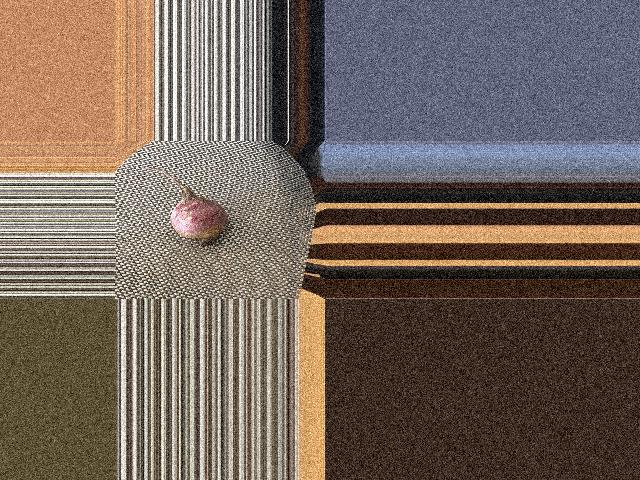beet: (145, 167, 228, 247)
